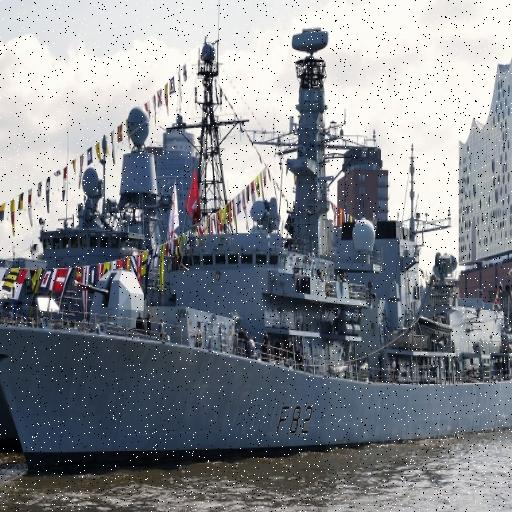Fragata: (1, 19, 512, 481)
